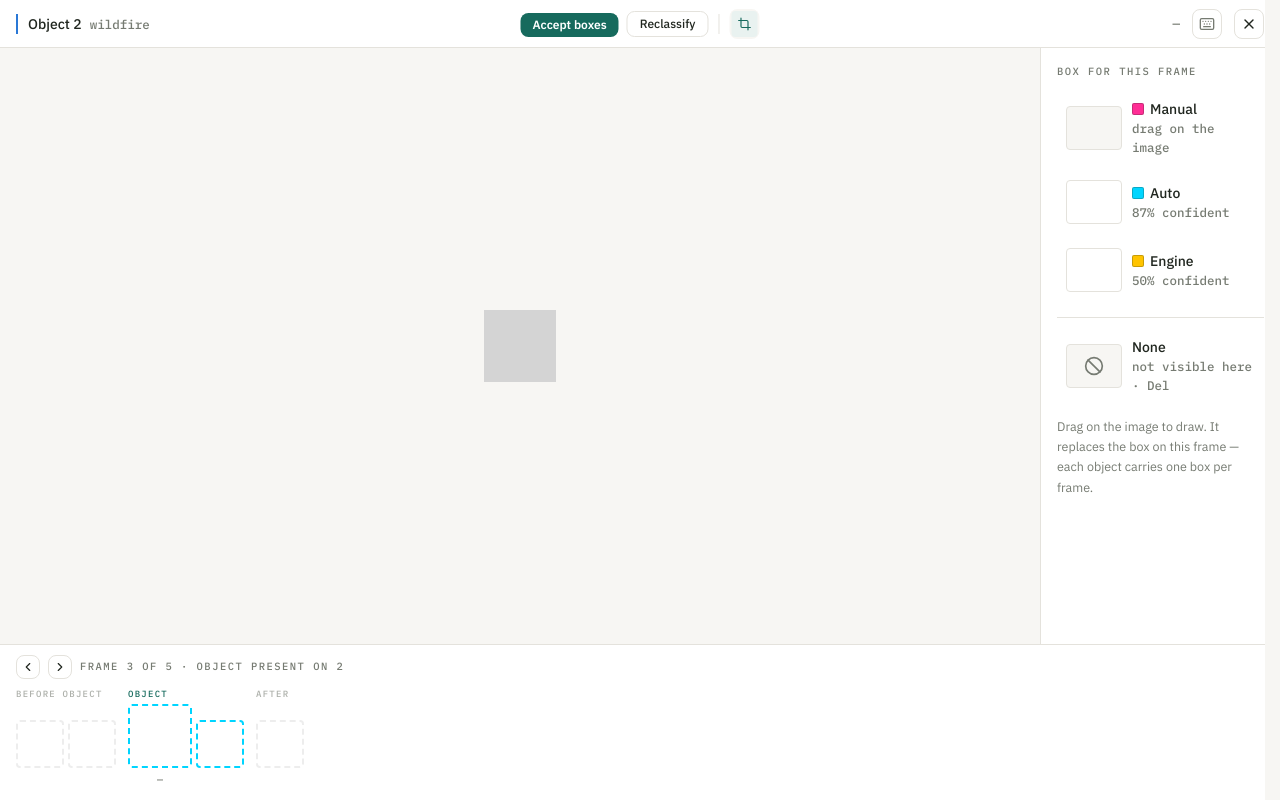
LocalizeObjectEditor accept remaining › confirms before writing, and does not write when dismissed
Step 1. Click the button with test id "editor-accept-remaining" → (570, 24), box x1=520 y1=12 x2=619 y2=36
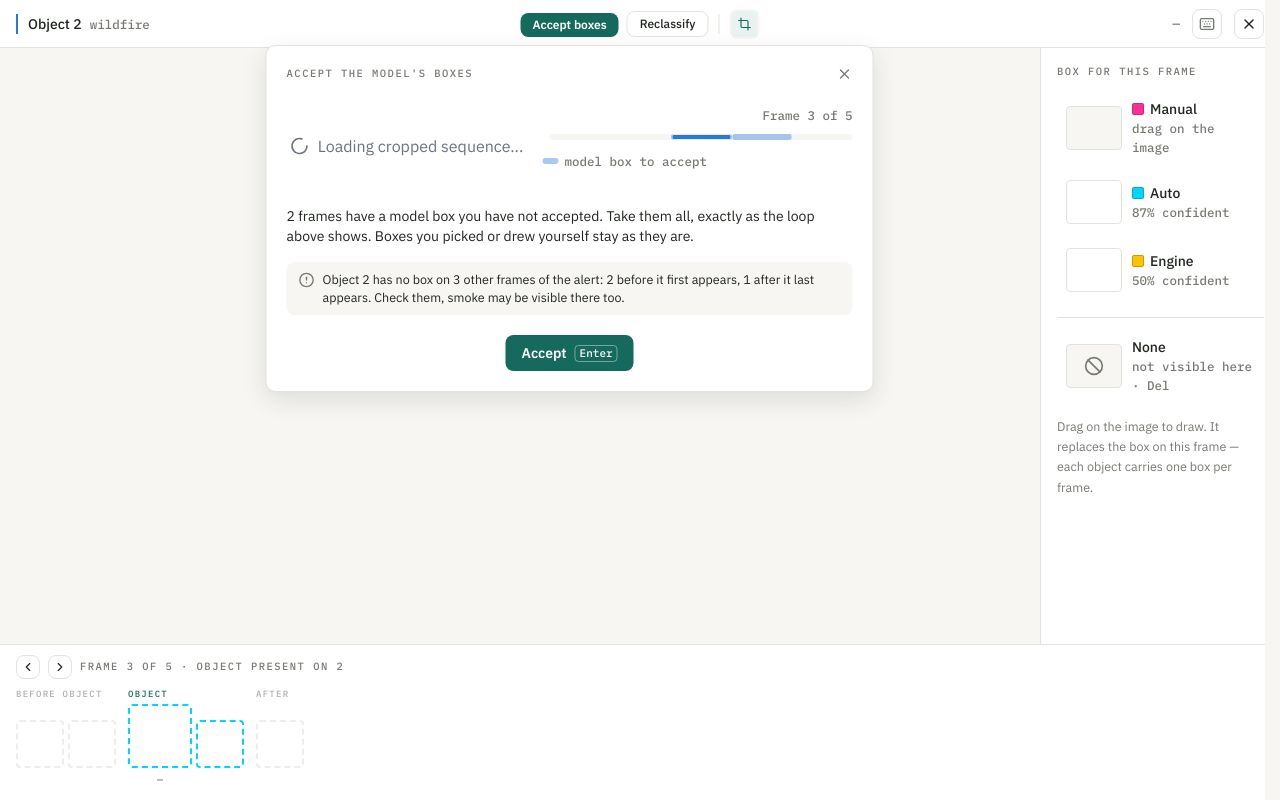
expect the dialog with test id "accept-remaining-popover" is shown: met, box x1=266 y1=44 x2=874 y2=392
Step 2. Click the button with test id "accept-remaining-close" → (845, 74), box x1=833 y1=62 x2=857 y2=86
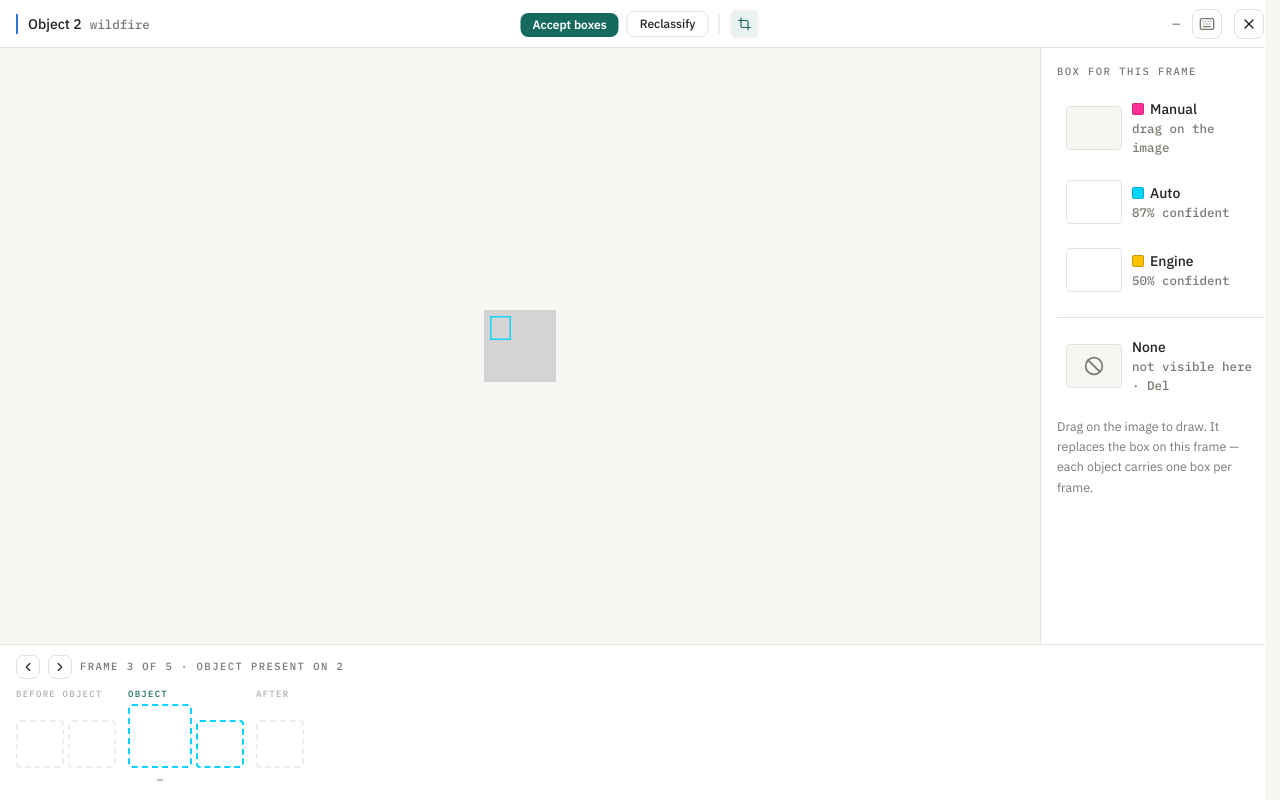
expect the dialog with test id "accept-remaining-popover" is gone: met
